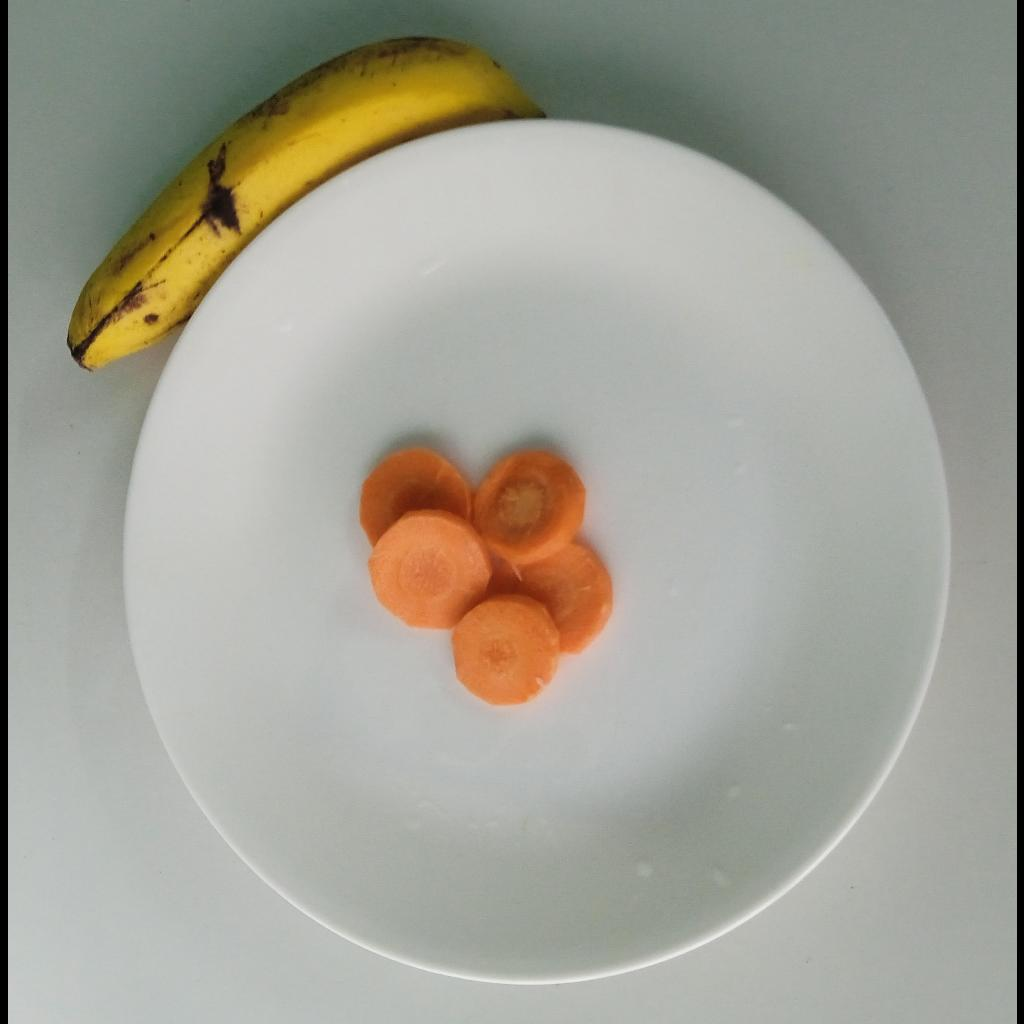banana: (67, 36, 542, 374)
carrot: (355, 445, 616, 706)
